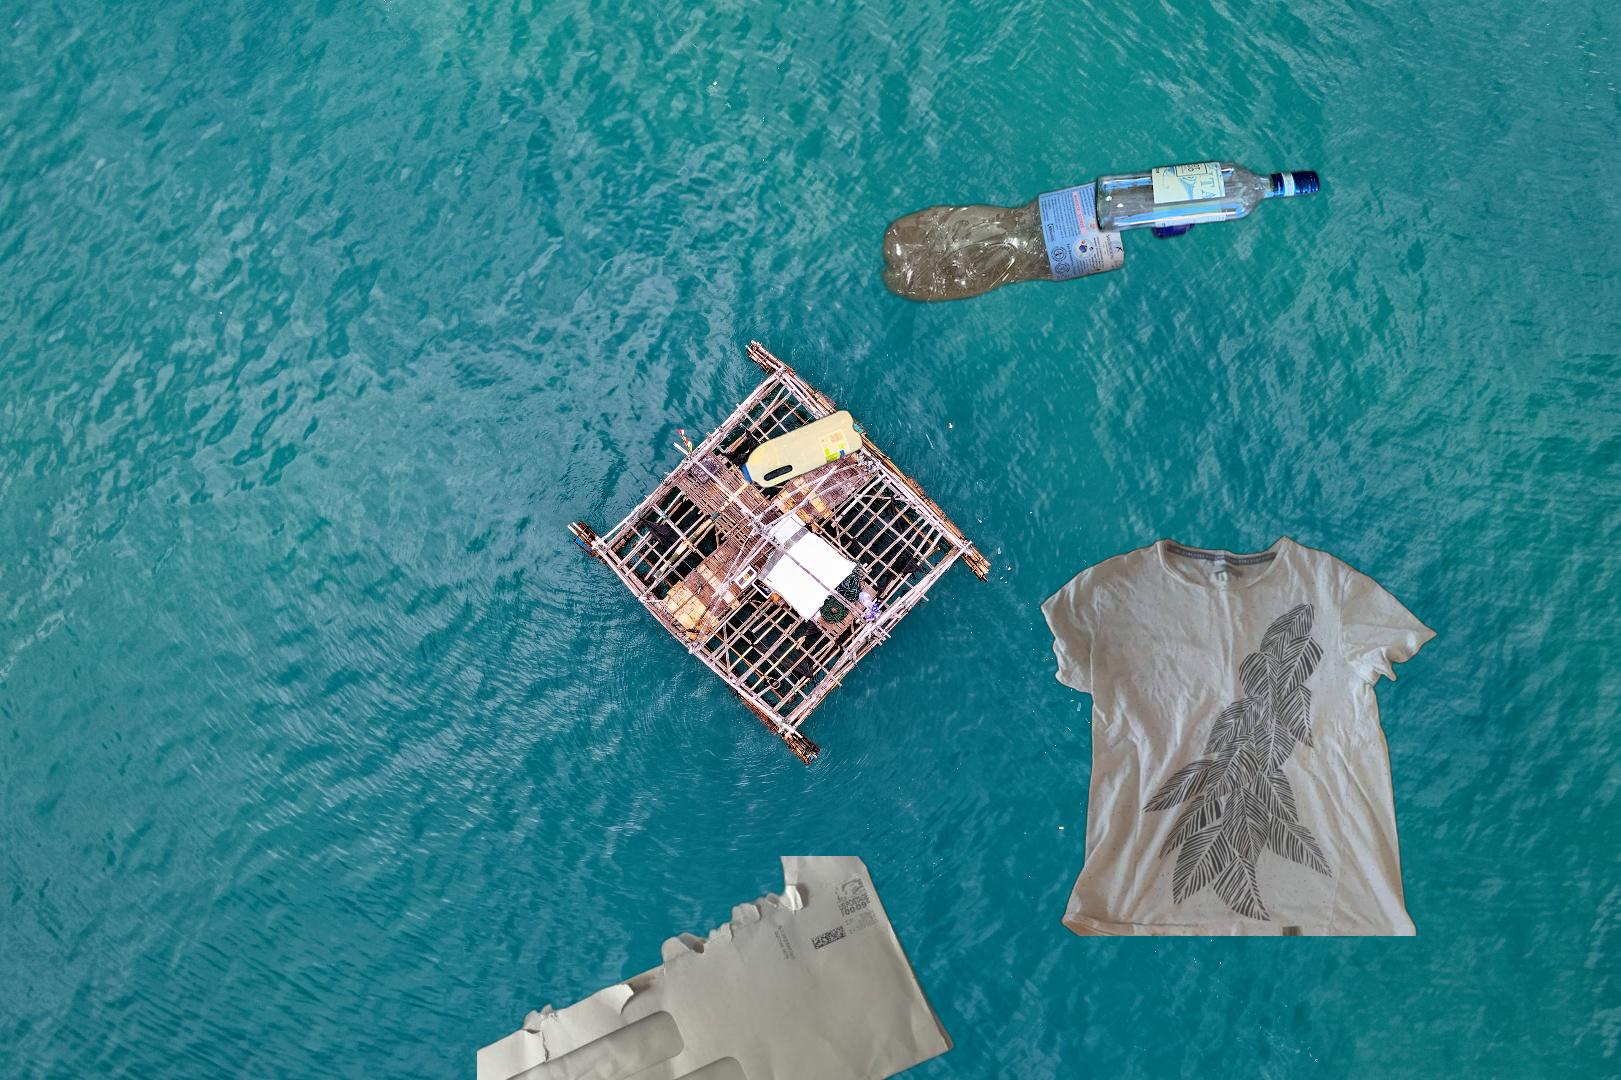clothes: (1035, 536, 1441, 937), (504, 999, 840, 1080)
glass: (1091, 155, 1325, 239)
paper: (477, 856, 959, 1080)
plastic-bottles: (875, 175, 1220, 309), (738, 404, 867, 494)
